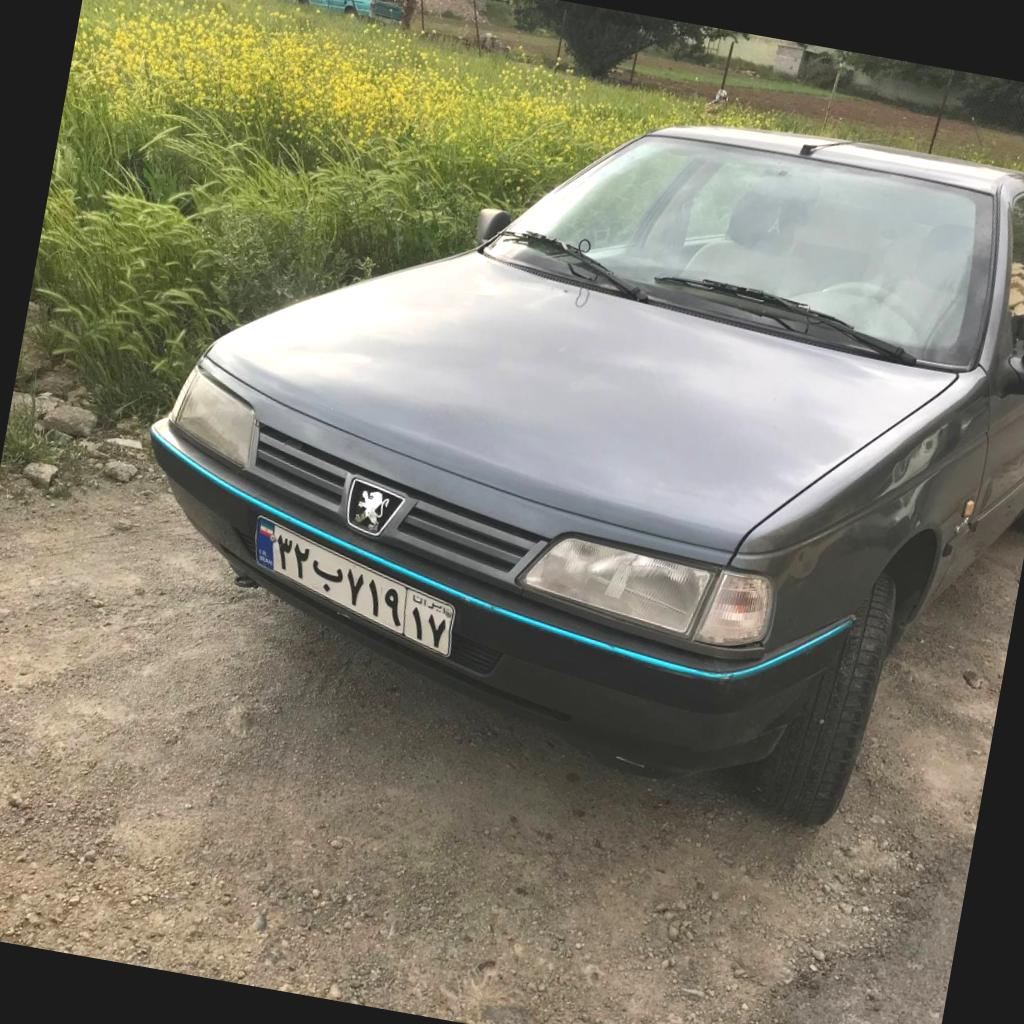Plates: (256, 517, 454, 657)
